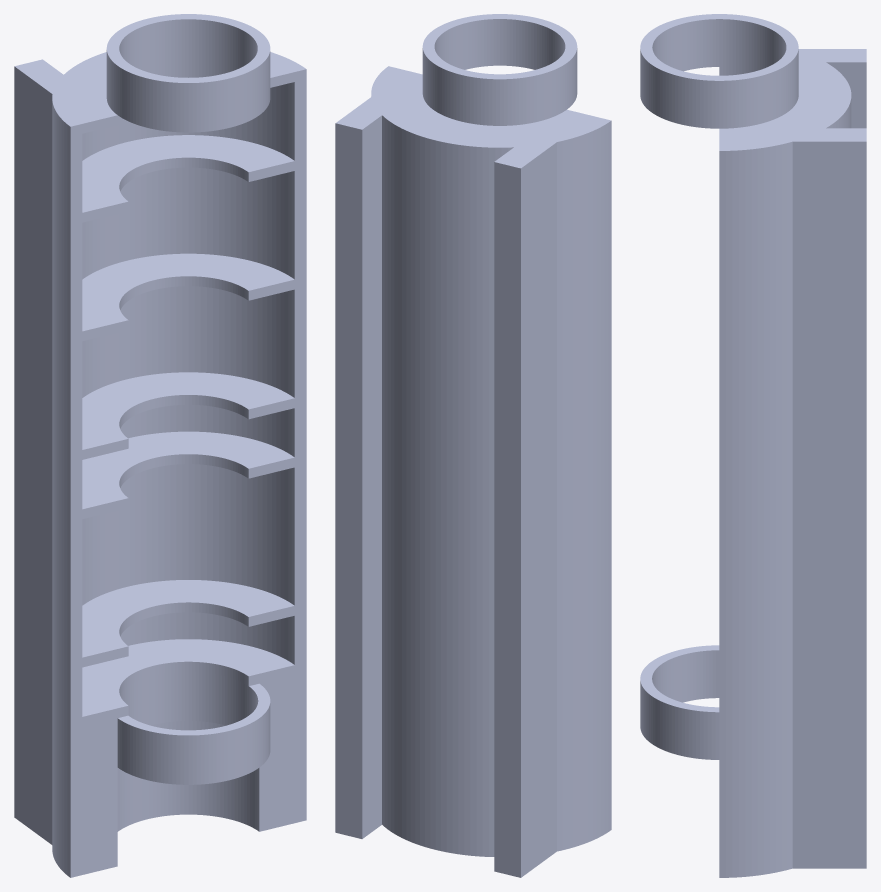
File: filtroMarte.obj
3 views of the same model, side by side, from view 1: azimuth 30°, elevation 25°; view 2: azimuth 150°, elevation 25°; view 3: azimuth 270°, elevation 25° (orthographic). The views are drawn at different scales.
Visible parts, largest first — view 1: obj1; view 2: obj1; view 3: obj1.
Boxes of the visible parts, box(x1,y1,x2,y2) form: obj1: box(14, 14, 306, 877); obj1: box(335, 14, 611, 877); obj1: box(640, 14, 866, 877).
Bounding box in the file's own units: 50 × 162 × 42.88.
